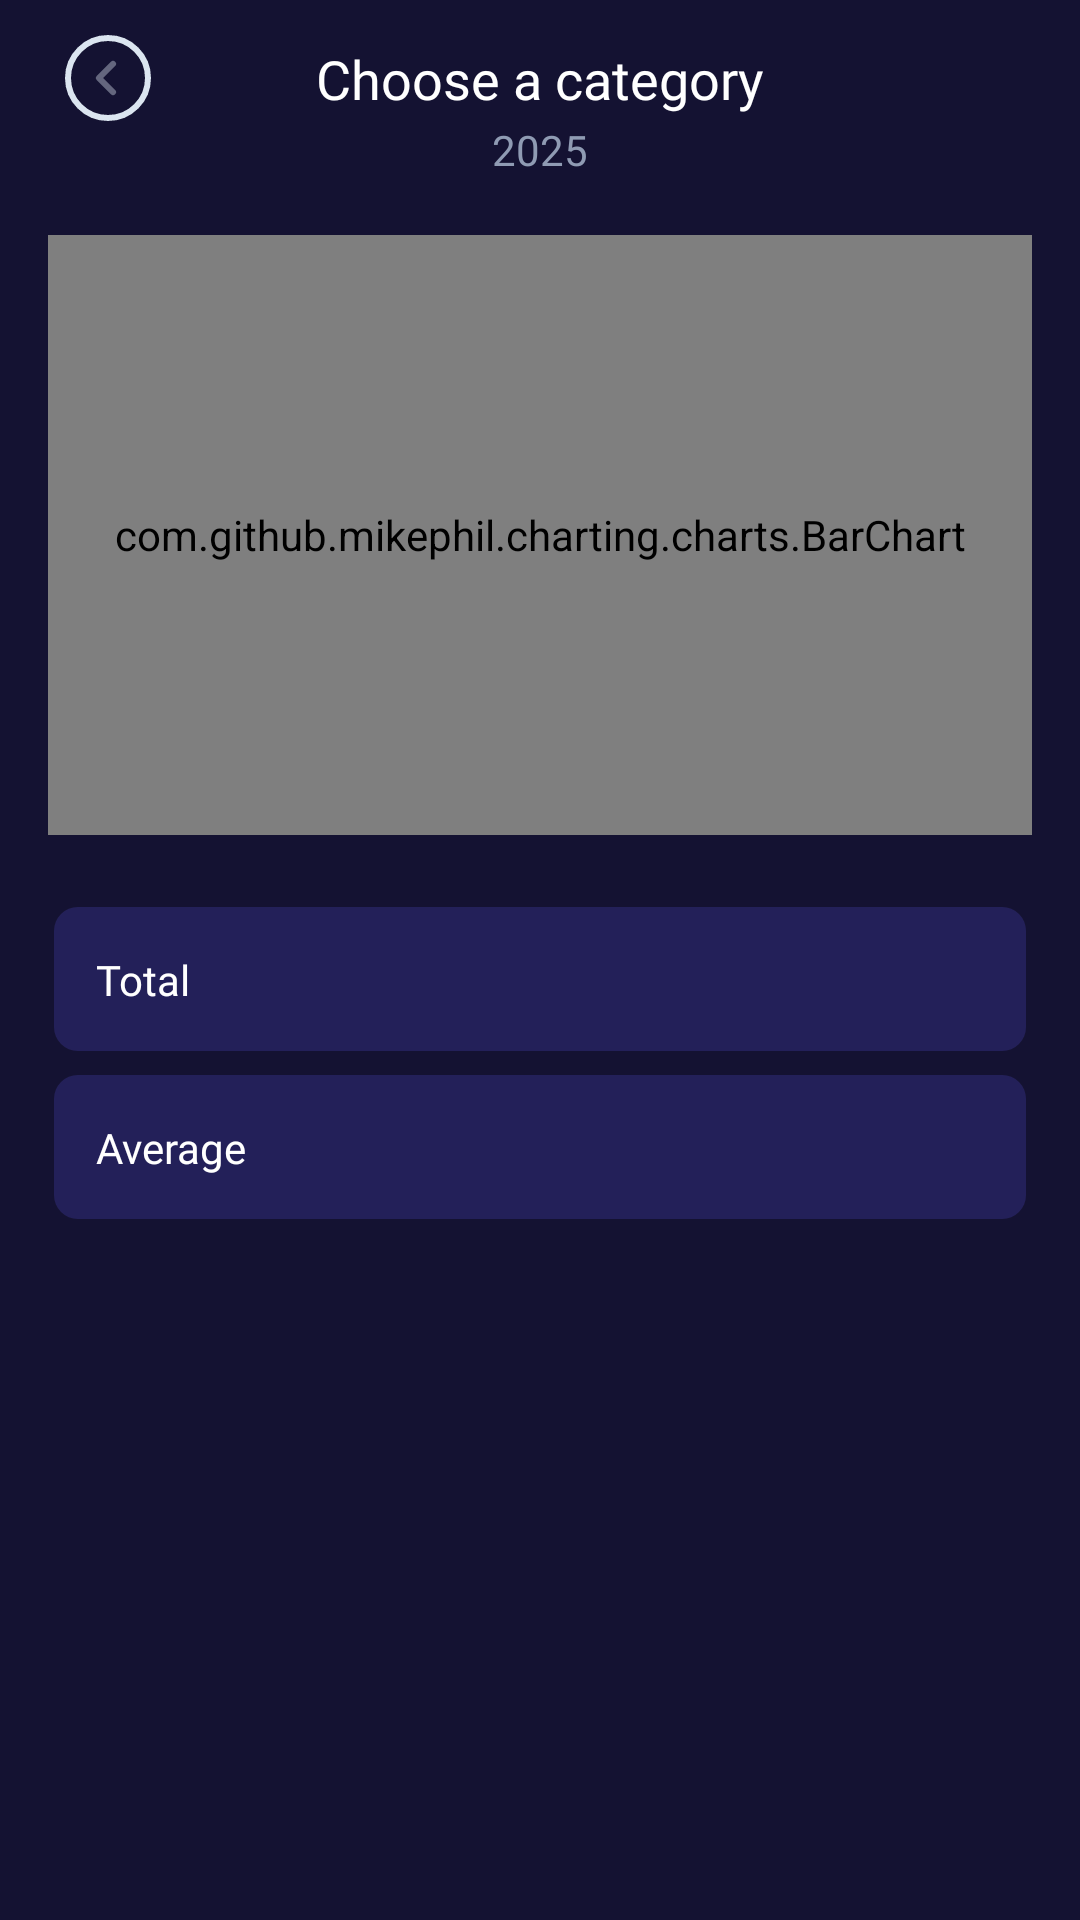

Screen size 1080 x 1920. Icon name, then its center in pixels as (x,y):
back: (108,78)
